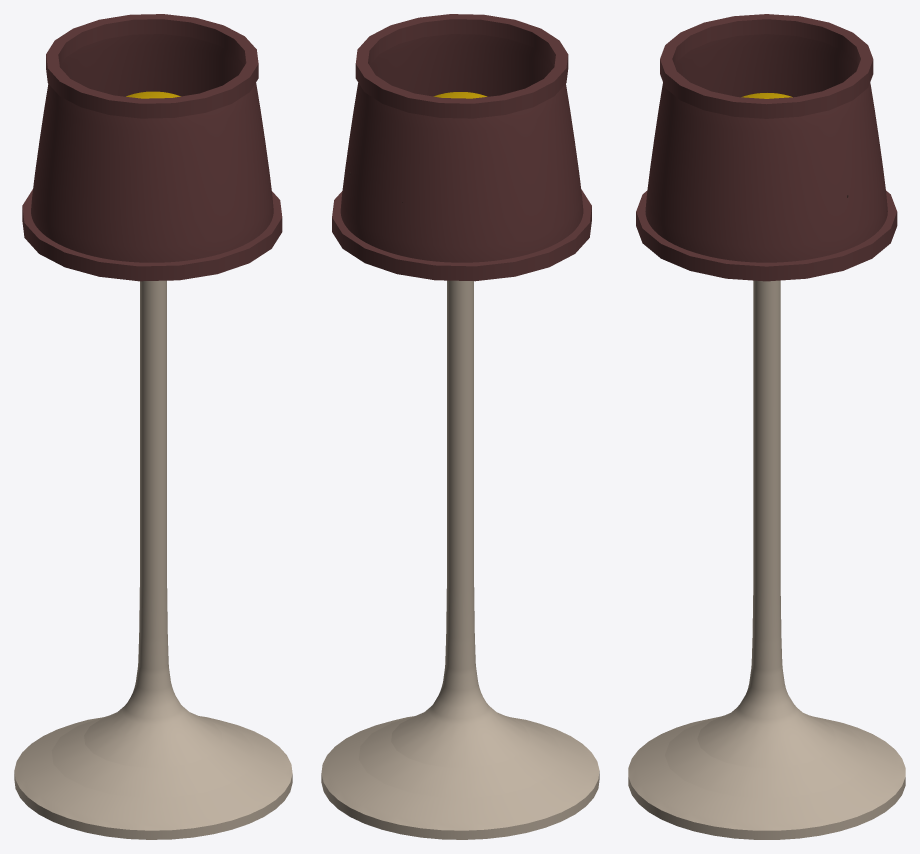
Rendered from LampeSalon1_7.fbx.
The picture shows the model from 3 angles, left to right: view 1: azimuth 30°, elevation 25°; view 2: azimuth 150°, elevation 25°; view 3: azimuth 270°, elevation 25°; orthographic projection.
Visible parts, largest first — view 1: pPipe203, pCylinder1745, pPipe202, pPipe204; view 2: pPipe203, pCylinder1745, pPipe202, pPipe204; view 3: pPipe203, pCylinder1745, pPipe202, pPipe204.
Boxes of the visible parts, left/top/right/bottom form: pPipe203: left=31, top=34, right=273, bottom=262; pCylinder1745: left=14, top=280, right=292, bottom=839; pPipe202: left=46, top=14, right=258, bottom=118; pPipe204: left=22, top=189, right=282, bottom=281; pPipe203: left=340, top=34, right=583, bottom=262; pCylinder1745: left=321, top=280, right=599, bottom=839; pPipe202: left=355, top=14, right=568, bottom=118; pPipe204: left=332, top=189, right=591, bottom=281; pPipe203: left=645, top=34, right=887, bottom=262; pCylinder1745: left=628, top=280, right=905, bottom=839; pPipe202: left=660, top=14, right=873, bottom=118; pPipe204: left=636, top=190, right=897, bottom=281.
Size of the model in its own units: 30.29 by 87.06 by 30.29.
